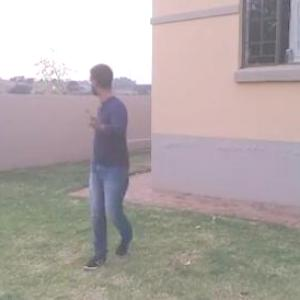takeoff-hand: (83, 103, 115, 133)
